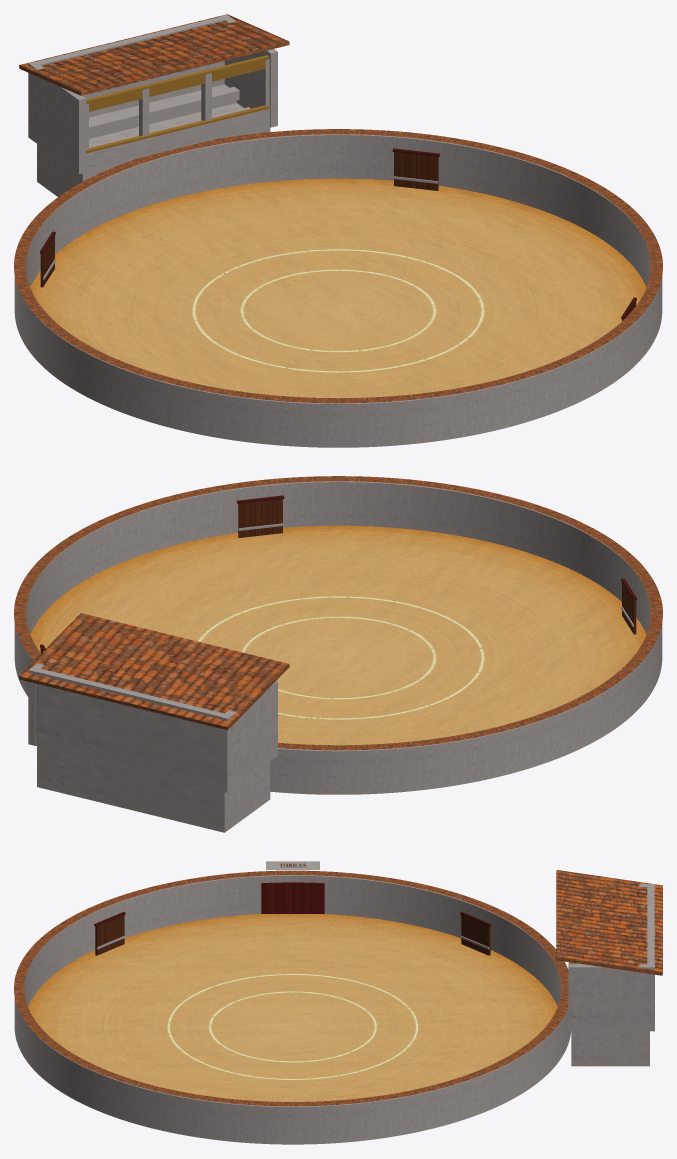
Rendered from placita.glb.
3 renders of one model, top to bottom at view 1: azimuth 30°, elevation 25°; view 2: azimuth 150°, elevation 25°; view 3: azimuth 270°, elevation 25°, orthographic. The views are drawn at different scales.
Bounding box in the file's own units: 27.96 × 6.05 × 31.36.
Materials: 9 (8 with a texture image).
